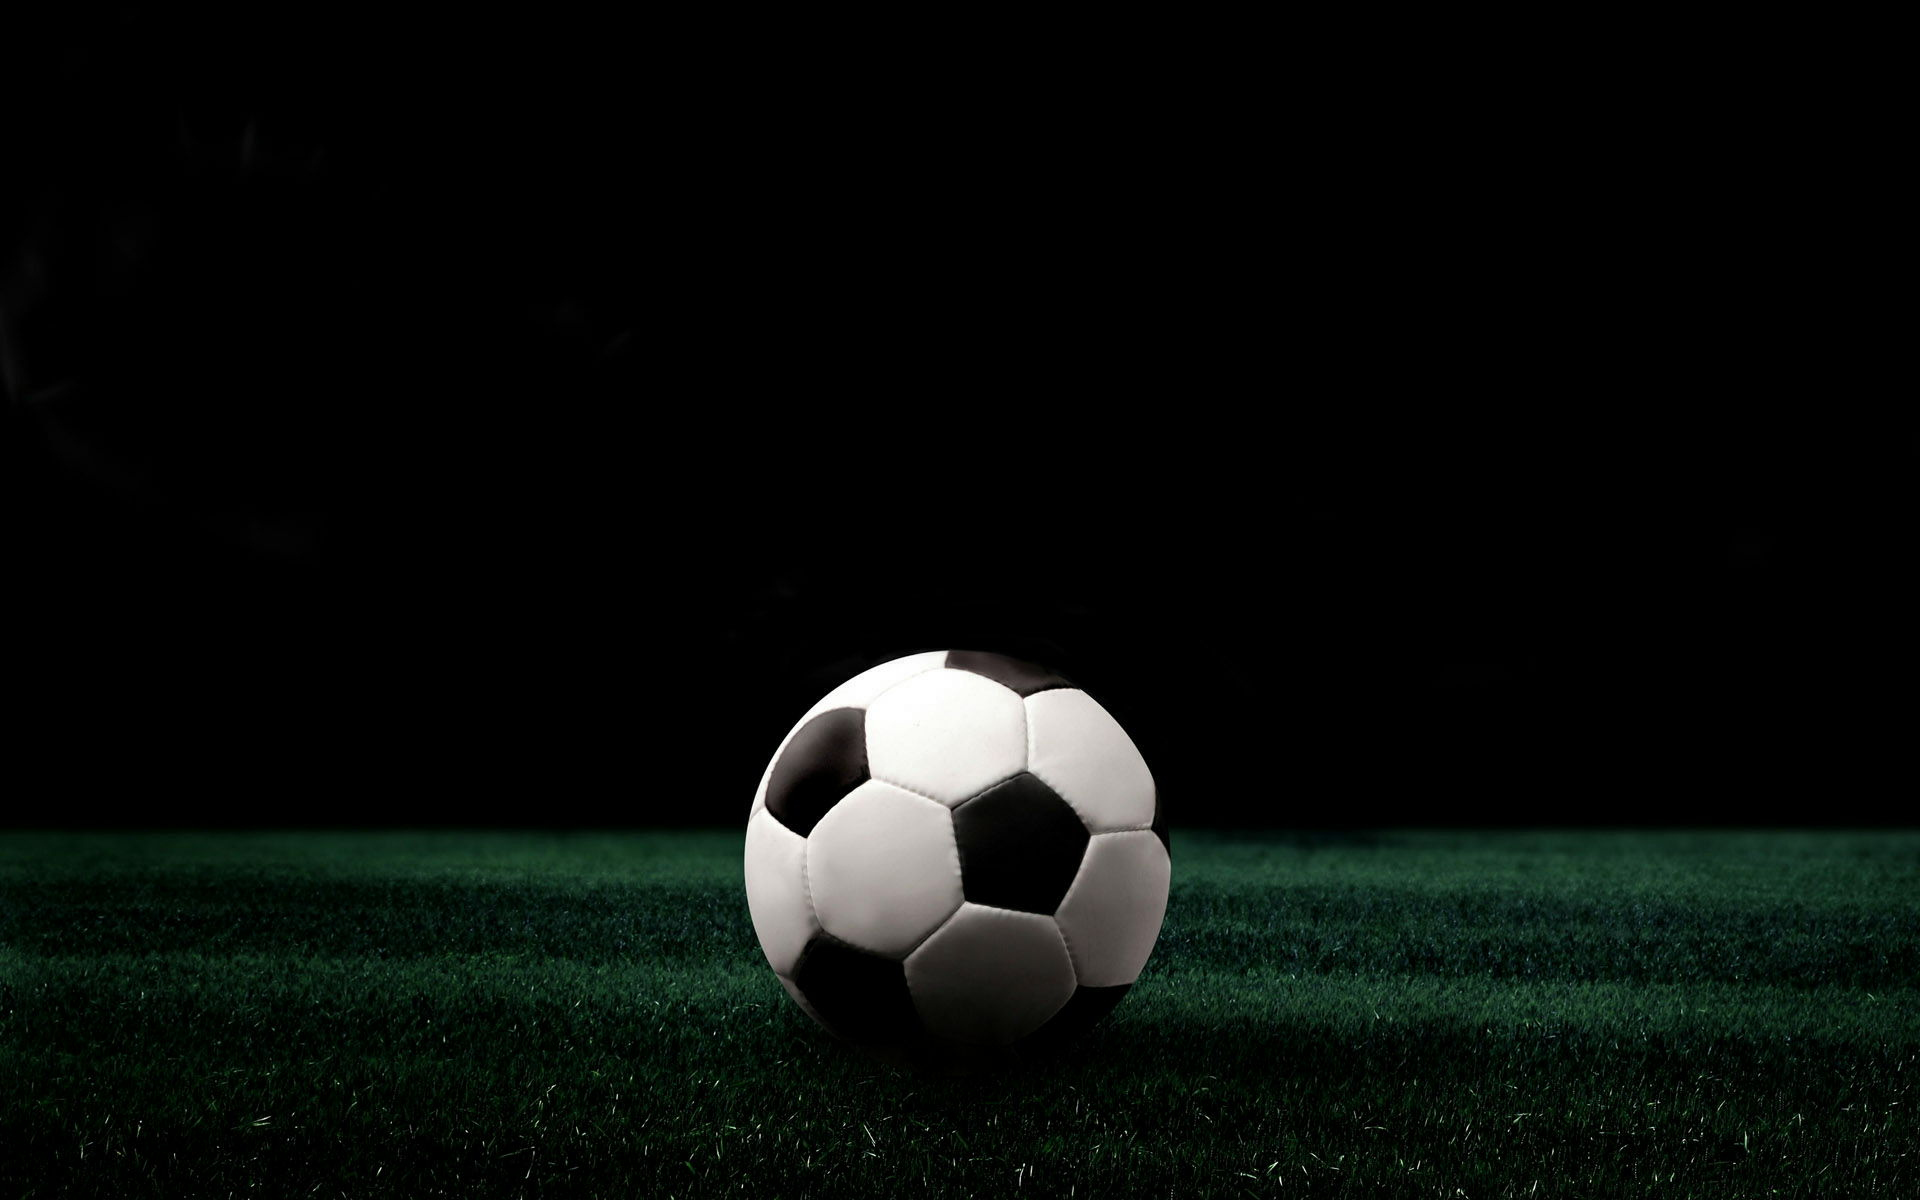football: (690, 610, 1216, 1060)
